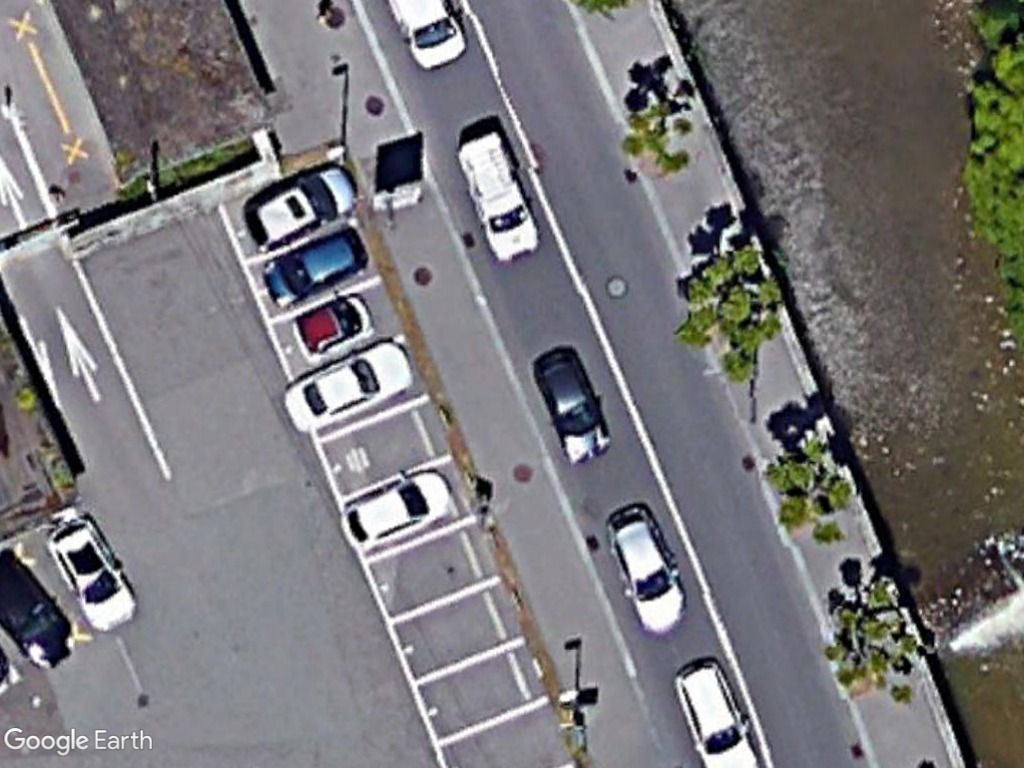car: (280, 337, 414, 443), (336, 459, 463, 559), (40, 513, 145, 630), (526, 338, 614, 471), (603, 497, 686, 637), (244, 158, 361, 248), (257, 225, 364, 311)
truck: (453, 130, 540, 270)
